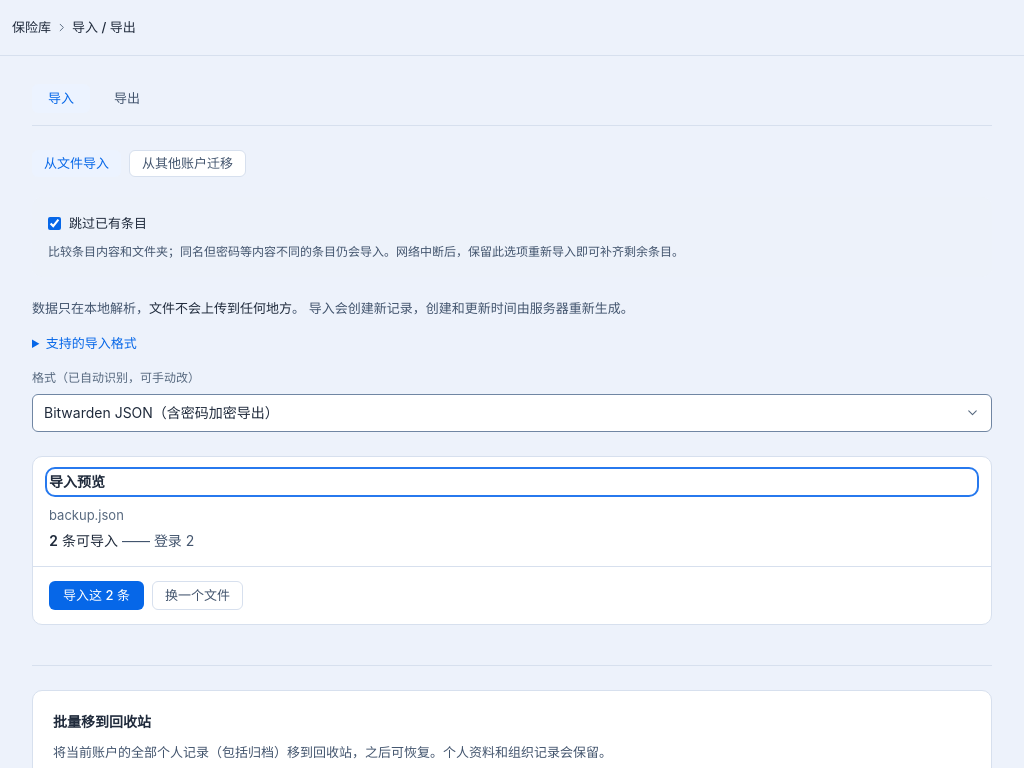
Test: keeps a partial import retryable and always skips existing records on retry
The width and height of the screenshot is (1024, 768).
Click the checkbox named "跳过已有条目": coordinates (54, 223) [48, 217, 61, 230]
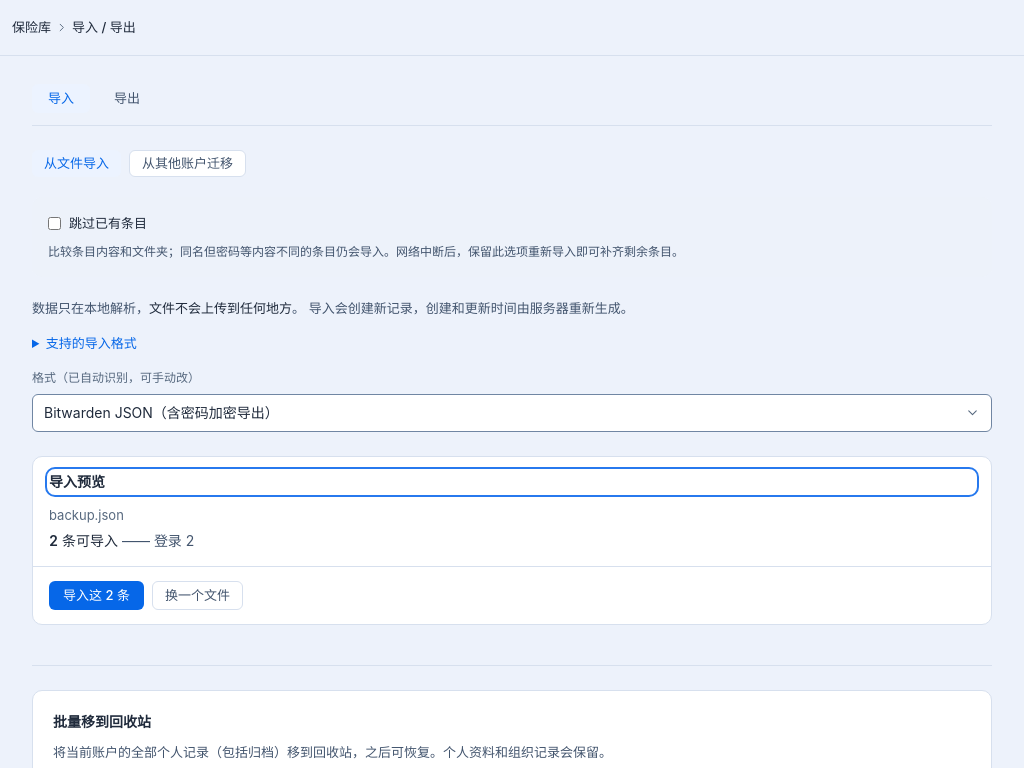
Click the button "导入这 2 条": coordinates (96, 596) [49, 581, 144, 610]
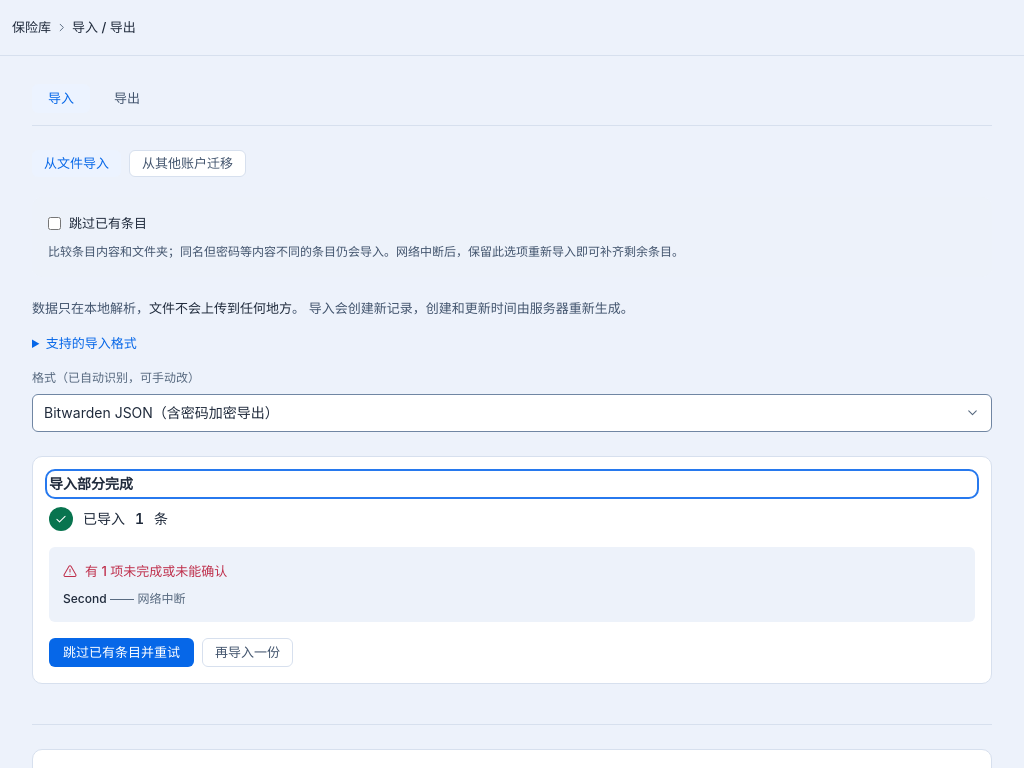
Expected: the text "网络中断" is shown, [48, 244, 684, 259]
Click the button "跳过已有条目并重试": coordinates (122, 653) [49, 638, 194, 668]
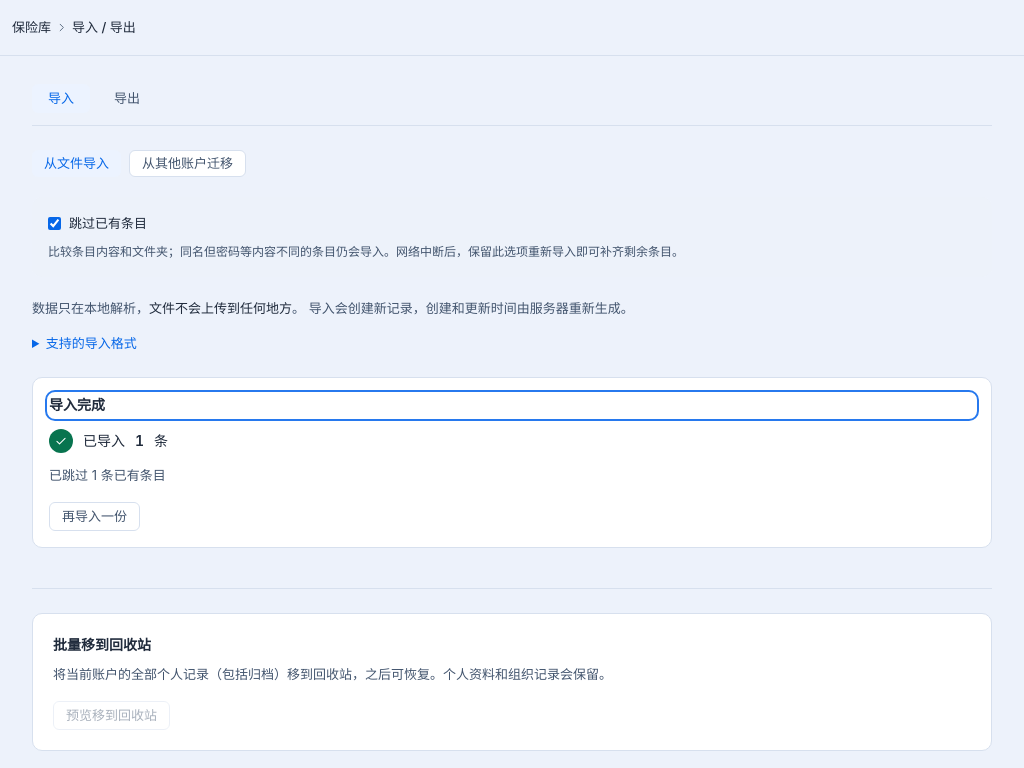
Expected: the text "已跳过 1 条已有条目" is shown, [49, 467, 166, 483]
